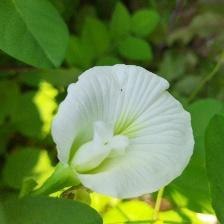shankupushpam: (50, 63, 196, 201)
